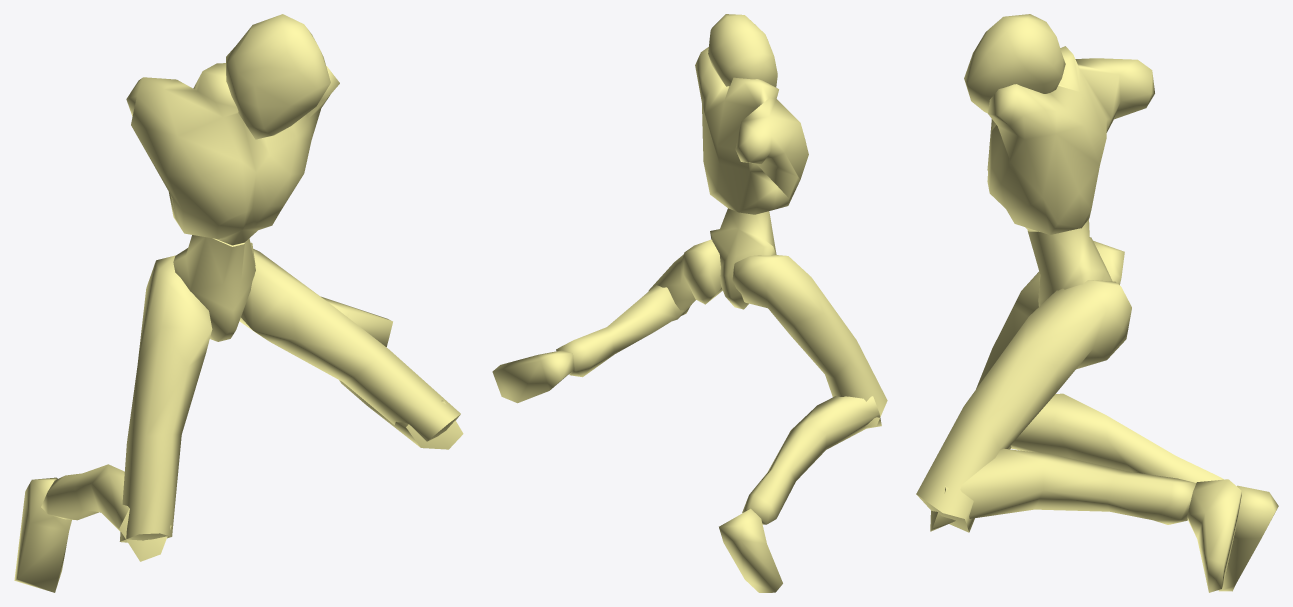
The model's file is filth8.obj.
3 views of the same model, side by side, from view 1: azimuth 30°, elevation 25°; view 2: azimuth 150°, elevation 25°; view 3: azimuth 270°, elevation 25° (orthographic). The views are drawn at different scales.
Parts seen in each view (by area): view 1: Melee_Husk; view 2: Melee_Husk; view 3: Melee_Husk.
Part boxes in pixels (box(x1,y1,x2,y2)): Melee_Husk: box(14, 14, 463, 592); Melee_Husk: box(492, 14, 887, 592); Melee_Husk: box(916, 14, 1278, 592).
Bounding box in the file's own units: 41.48 × 64.66 × 33.07.
